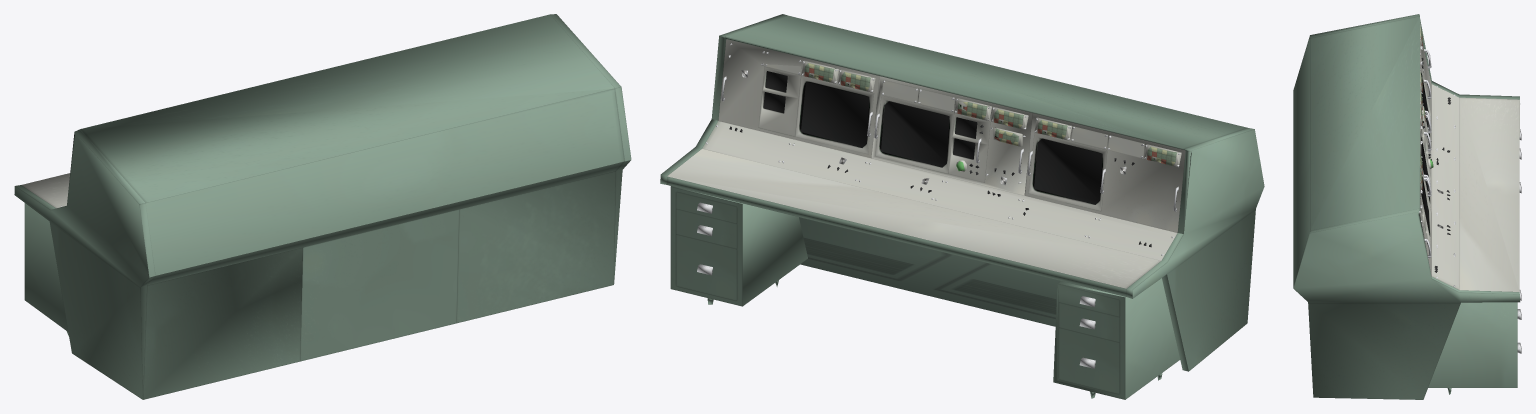
Rendered from consola.fbx.
3 views of the same model, side by side, from view 1: azimuth 30°, elevation 25°; view 2: azimuth 150°, elevation 25°; view 3: azimuth 270°, elevation 25° (orthographic). The views are drawn at different scales.
Visible parts, largest first — view 1: polySurface77; view 2: polySurface77; view 3: polySurface77.
Part boxes in pixels (box(x1,y1,x2,y2)): polySurface77: box(14, 14, 631, 399); polySurface77: box(660, 14, 1264, 399); polySurface77: box(1293, 14, 1521, 399).
Bounding box in the file's own units: 299 × 133 × 146.
